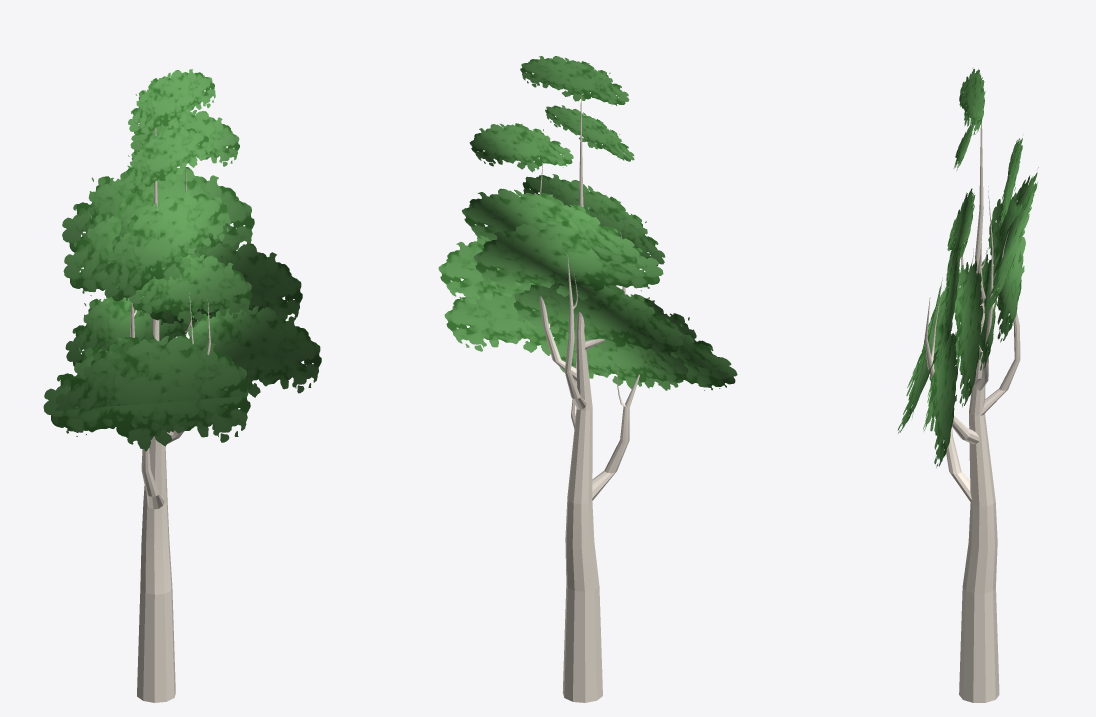
Rendered from tree_l_02.fbx.
The picture shows the model from 3 angles, left to right: view 1: azimuth 30°, elevation 25°; view 2: azimuth 150°, elevation 25°; view 3: azimuth 270°, elevation 25°; orthographic projection. The views are drawn at different scales.
Visible parts, largest first — view 1: LeafCard_008, tree02_b1_pCylinder1, LeafCard_003, LeafCard_007, LeafCard_011, LeafCard_005, LeafCard_010, LeafCard_013, LeafCard_009, LeafCard_002, LeafCard_001, LeafCard_006 (+1 smaller); view 2: tree02_b1_pCylinder1, LeafCard_006, LeafCard_009, LeafCard_005, LeafCard_011, LeafCard_012, LeafCard_003, LeafCard_004, LeafCard_002, LeafCard_013, LeafCard_001, LeafCard_007 (+1 smaller); view 3: tree02_b1_pCylinder1, LeafCard_013, LeafCard_011, LeafCard_006, LeafCard_005, LeafCard_007, LeafCard_002, LeafCard_003, LeafCard_009, LeafCard_010, LeafCard_004.
Part boxes in pixels (box(x1,y1,x2,y2)): LeafCard_008: box(55, 335, 249, 439); tree02_b1_pCylinder1: box(130, 127, 210, 702); LeafCard_003: box(101, 191, 230, 301); LeafCard_007: box(43, 337, 250, 451); LeafCard_011: box(188, 306, 321, 397); LeafCard_005: box(62, 165, 254, 252); LeafCard_010: box(129, 253, 252, 324); LeafCard_013: box(150, 240, 302, 327); LeafCard_009: box(65, 283, 211, 366); LeafCard_002: box(128, 69, 215, 136); LeafCard_001: box(123, 126, 210, 192); LeafCard_006: box(63, 202, 222, 295); tree02_b1_pCylinder1: box(539, 95, 639, 702); LeafCard_006: box(474, 221, 663, 300); LeafCard_009: box(514, 282, 683, 355); LeafCard_005: box(462, 188, 639, 267); LeafCard_011: box(444, 291, 566, 355); LeafCard_012: box(556, 332, 688, 389); LeafCard_003: box(522, 174, 665, 265); LeafCard_004: box(469, 123, 573, 172); LeafCard_002: box(520, 56, 629, 105); LeafCard_013: box(438, 236, 603, 304); LeafCard_001: box(545, 105, 634, 161); LeafCard_007: box(561, 322, 737, 390); tree02_b1_pCylinder1: box(924, 122, 1020, 702); LeafCard_013: box(954, 255, 983, 407); LeafCard_011: box(927, 322, 957, 467); LeafCard_006: box(987, 187, 1025, 342); LeafCard_005: box(984, 167, 1038, 315); LeafCard_007: box(897, 286, 946, 433); LeafCard_002: box(959, 68, 985, 134); LeafCard_003: box(947, 188, 975, 267); LeafCard_009: box(979, 250, 996, 370); LeafCard_010: box(942, 250, 959, 347); LeafCard_004: box(999, 134, 1023, 226).
Size of the model in its own units: 751 by 1245 by 401.
